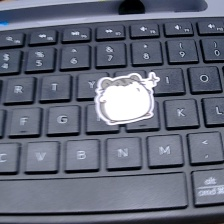mouse: (92, 69, 165, 130)
